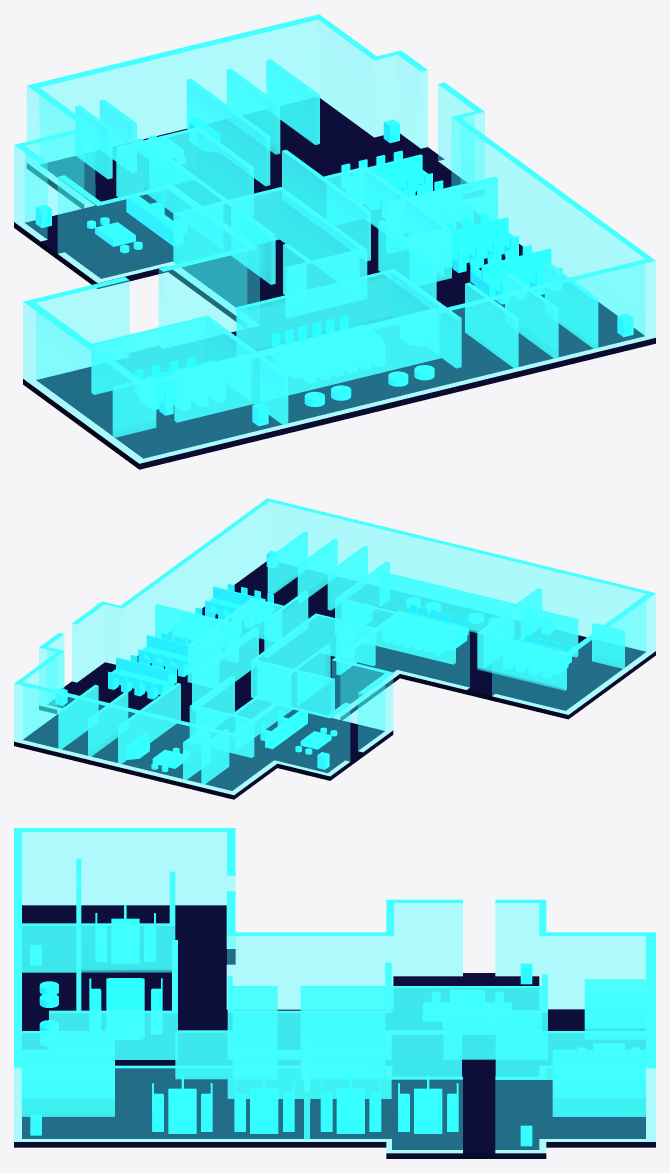
The model's file is darkMode.glb.
The picture shows the model from 3 angles, top to bottom: view 1: azimuth 30°, elevation 25°; view 2: azimuth 150°, elevation 25°; view 3: azimuth 270°, elevation 25°; orthographic projection. The views are drawn at different scales.
Visible parts, largest first — view 1: 2.5D Floorplan, FloorplanBase, Objects; view 2: 2.5D Floorplan, FloorplanBase, Objects; view 3: 2.5D Floorplan, FloorplanBase, Objects.
Part boxes in pixels (left/top/right/bottom): 2.5D Floorplan: left=14, top=14, right=655, bottom=463; FloorplanBase: left=14, top=98, right=655, bottom=469; Objects: left=35, top=116, right=633, bottom=426; 2.5D Floorplan: left=14, top=498, right=655, bottom=794; FloorplanBase: left=14, top=561, right=655, bottom=799; Objects: left=56, top=550, right=571, bottom=771; 2.5D Floorplan: left=14, top=828, right=655, bottom=1152; FloorplanBase: left=14, top=905, right=655, bottom=1158; Objects: left=30, top=905, right=532, bottom=1146.
Bounding box in the file's own units: 34.52 × 5.06 × 37.22.
3 materials, 3 textured.
